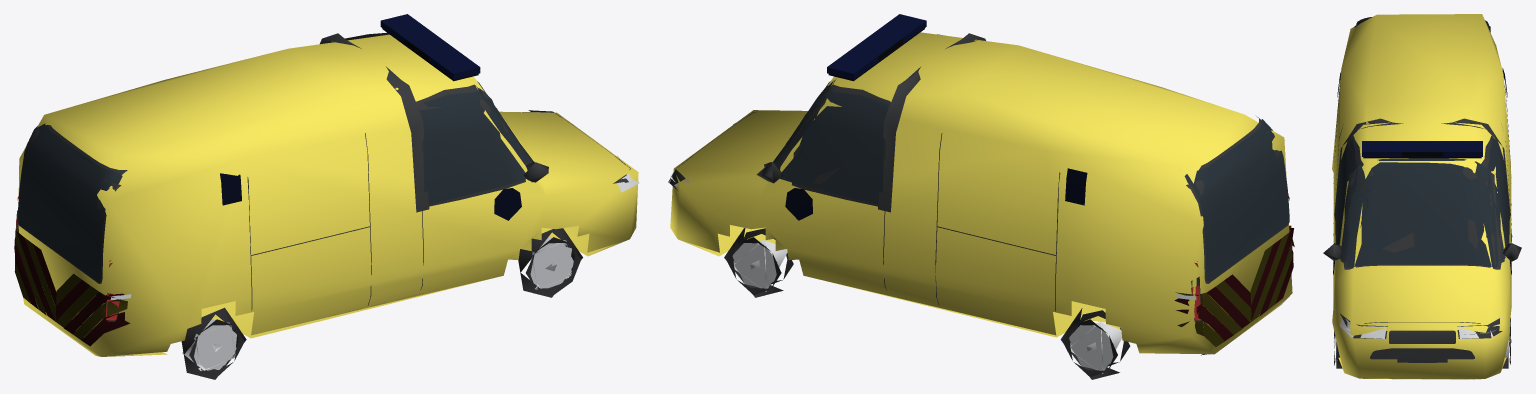
The model's file is samu_umh_ufar.glb.
The picture shows the model from 3 angles, left to right: view 1: azimuth 30°, elevation 25°; view 2: azimuth 150°, elevation 25°; view 3: azimuth 270°, elevation 25°; orthographic projection. The views are drawn at different scales.
Parts seen in each view (by area): view 1: Body, RearGlass, Glass-1, WheelFR, WheelRR, LightBar, Bpillar-1, WinFrame-1, RgFrame, SamuChev4, Samu15D-1, SamuChev5 (+4 smaller); view 2: Body, RearGlass, Glass1, WheelRL, WheelFL, LightBar, Bpillar1, WinFrame1, RgFrame, SamuCross1-1.421.7, Samu15D1, SamuChev16 (+4 smaller); view 3: Body, Windshield, LightBar, Glass-1, WsFrame, Glass1, Intake, Grille, HeadReflector, HeadBezel, WinFrame-1, WinFrame1 (+7 smaller).
Boxes of the visible parts, <box> form: Body: <box>18,34,638,356</box>; RearGlass: <box>18,123,122,281</box>; Glass-1: <box>419,91,531,204</box>; WheelFR: <box>518,228,582,297</box>; WheelRR: <box>181,307,246,379</box>; LightBar: <box>380,14,480,79</box>; Bpillar-1: <box>386,66,429,212</box>; WinFrame-1: <box>416,84,527,206</box>; RgFrame: <box>17,125,127,283</box>; SamuChev4: <box>72,299,127,339</box>; Samu15D-1: <box>494,188,521,220</box>; SamuChev5: <box>64,292,124,333</box>; Body: <box>670,32,1292,354</box>; RearGlass: <box>1184,119,1289,281</box>; Glass1: <box>778,91,888,204</box>; WheelRL: <box>1060,308,1130,379</box>; WheelFL: <box>724,228,793,297</box>; LightBar: <box>827,14,926,79</box>; Bpillar1: <box>878,67,920,212</box>; WinFrame1: <box>777,84,890,206</box>; RgFrame: <box>1186,116,1289,283</box>; SamuCross1-1.421.7: <box>1065,168,1087,205</box>; Samu15D1: <box>785,188,812,220</box>; SamuChev16: <box>1175,292,1241,334</box>; Body: <box>1332,14,1511,379</box>; Windshield: <box>1346,159,1498,267</box>; LightBar: <box>1362,141,1482,156</box>; Glass-1: <box>1335,140,1368,260</box>; WsFrame: <box>1343,158,1501,269</box>; Glass1: <box>1476,138,1509,260</box>; Intake: <box>1370,348,1474,359</box>; Grille: <box>1389,330,1455,343</box>; HeadReflector: <box>1340,317,1501,338</box>; HeadBezel: <box>1340,313,1502,338</box>; WinFrame-1: <box>1340,135,1370,262</box>; WinFrame1: <box>1479,135,1508,262</box>.
Size of the model in its own units: 5.62 by 2.31 by 2.14.
